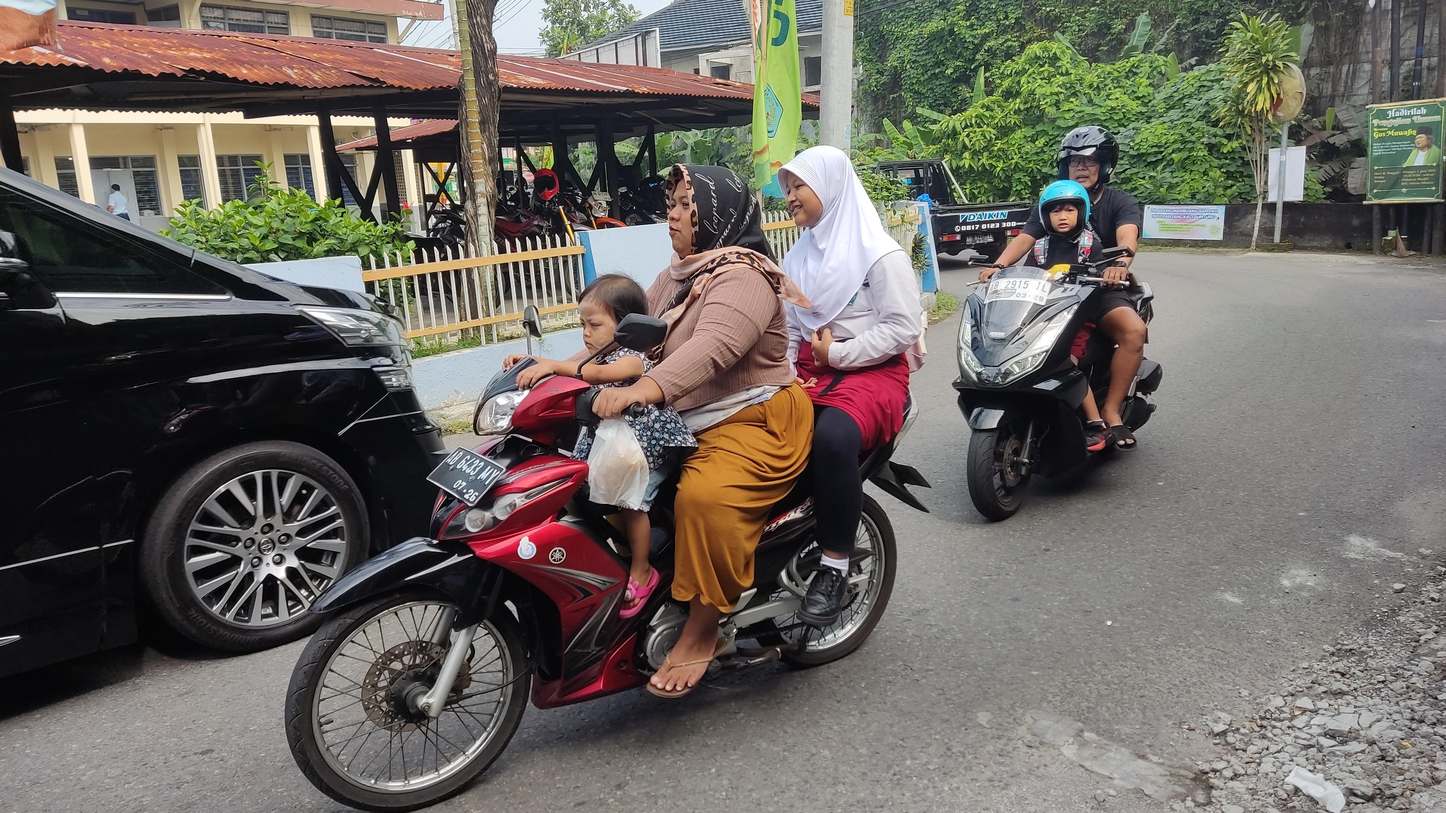helm: (1055, 125, 1120, 192), (1037, 178, 1092, 236)
nohelm: (663, 160, 754, 262), (777, 144, 856, 229), (577, 272, 648, 360)
riding: (282, 140, 936, 813), (950, 124, 1166, 522)
